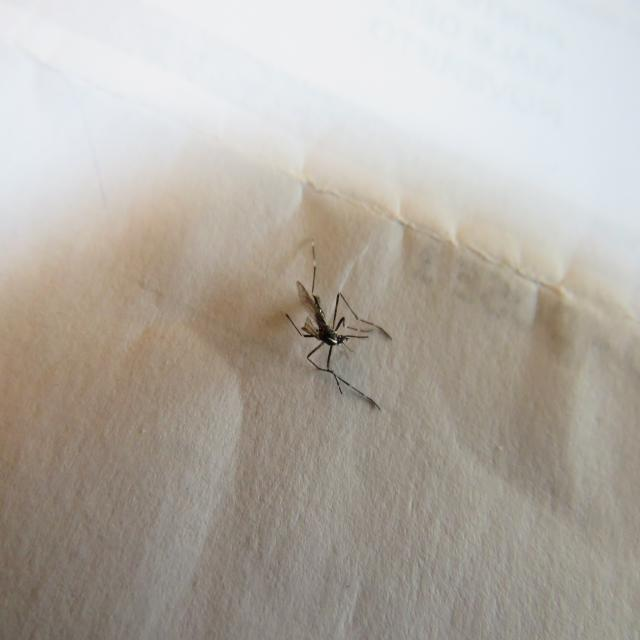albopictus: (271, 233, 398, 418)
